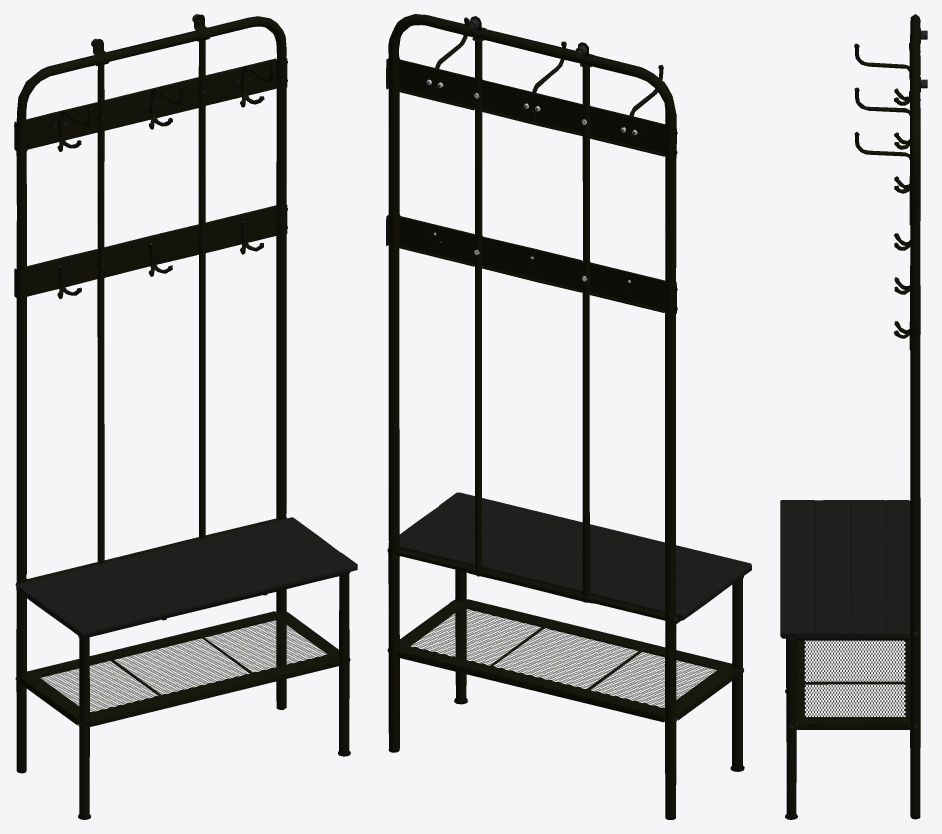
Rendered from nipasen_wieszak_n_ubr_i_awka_z_pok_n_but_50586145.glb.
The picture shows the model from 3 angles, left to right: view 1: azimuth 30°, elevation 25°; view 2: azimuth 150°, elevation 25°; view 3: azimuth 270°, elevation 25°; orthographic projection. The views are drawn at different scales.
Visible parts, largest first — view 1: nipasen_wieszak_n_ubr_i_awka_z_pok_n_but_50586145; view 2: nipasen_wieszak_n_ubr_i_awka_z_pok_n_but_50586145; view 3: nipasen_wieszak_n_ubr_i_awka_z_pok_n_but_50586145.
Part boxes in pixels (x1=…): nipasen_wieszak_n_ubr_i_awka_z_pok_n_but_50586145: x1=14, y1=14, x2=357, y2=819; nipasen_wieszak_n_ubr_i_awka_z_pok_n_but_50586145: x1=386, y1=14, x2=751, y2=819; nipasen_wieszak_n_ubr_i_awka_z_pok_n_but_50586145: x1=780, y1=14, x2=927, y2=819.
Bounding box in the file's own units: 0.7913 × 1.94 × 0.3689.
2 materials, 2 textured.
